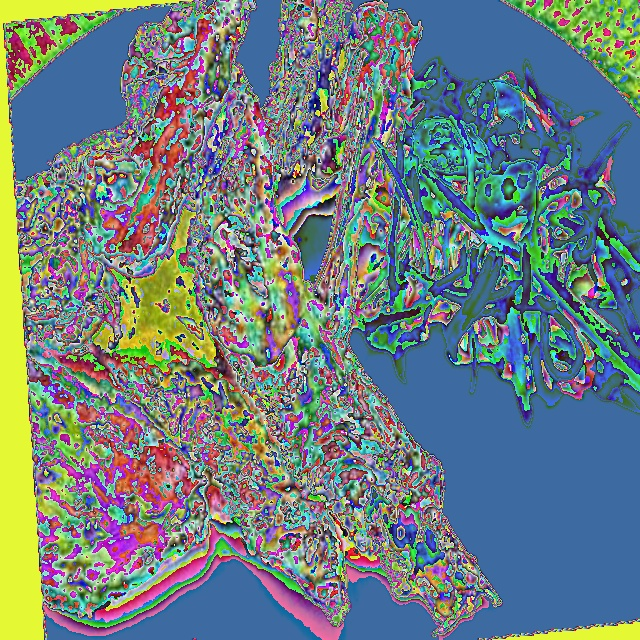background: (15, 0, 639, 635)
